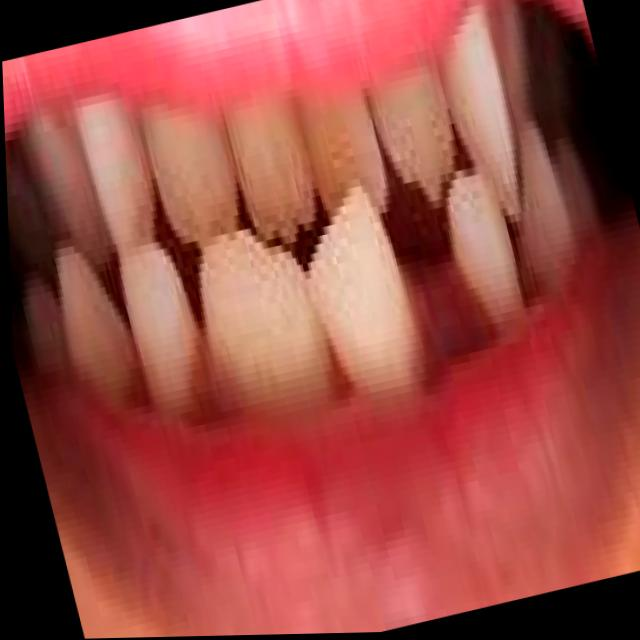hypodontia: (306, 174, 520, 404)
